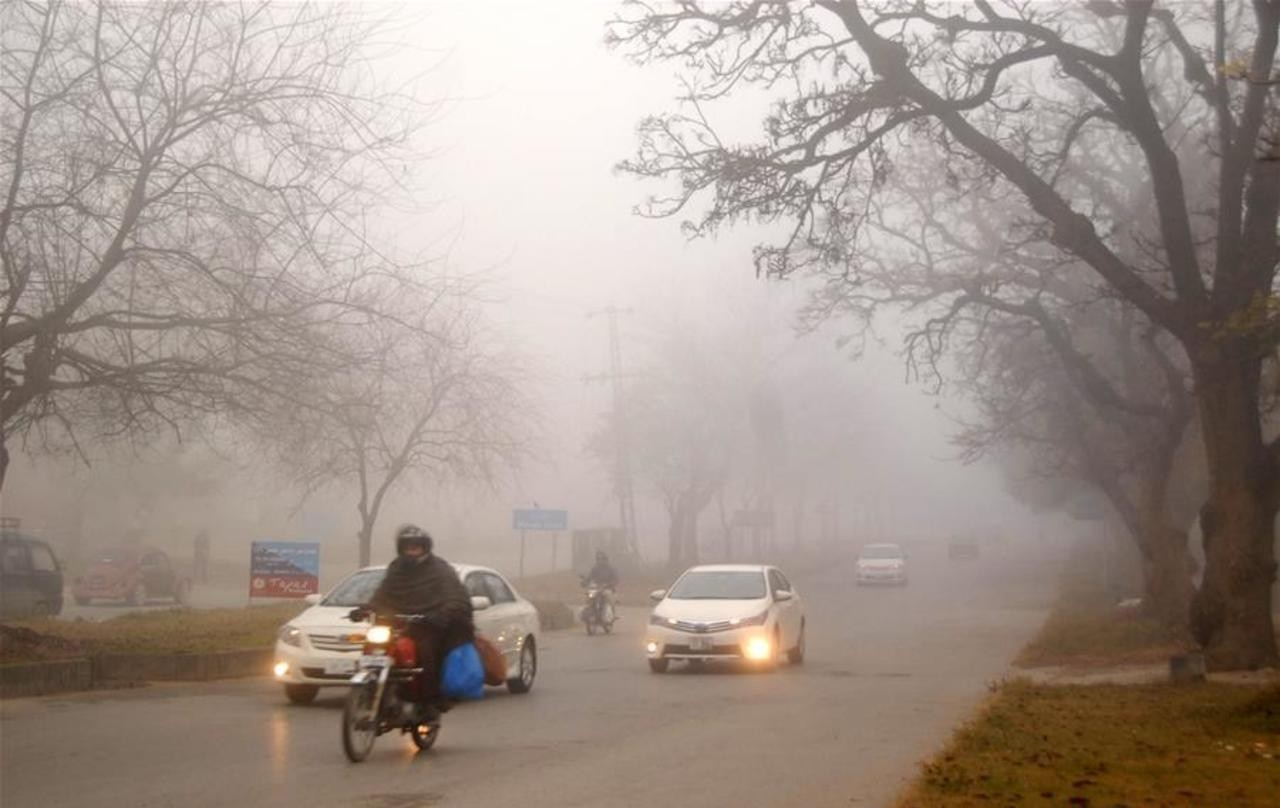car: (273, 562, 550, 702), (642, 561, 809, 676), (72, 533, 192, 609), (0, 518, 65, 617), (855, 542, 908, 585), (943, 524, 978, 560)
motorcycle: (339, 611, 451, 760), (576, 581, 619, 636)
person: (362, 520, 484, 715), (582, 548, 621, 631)
